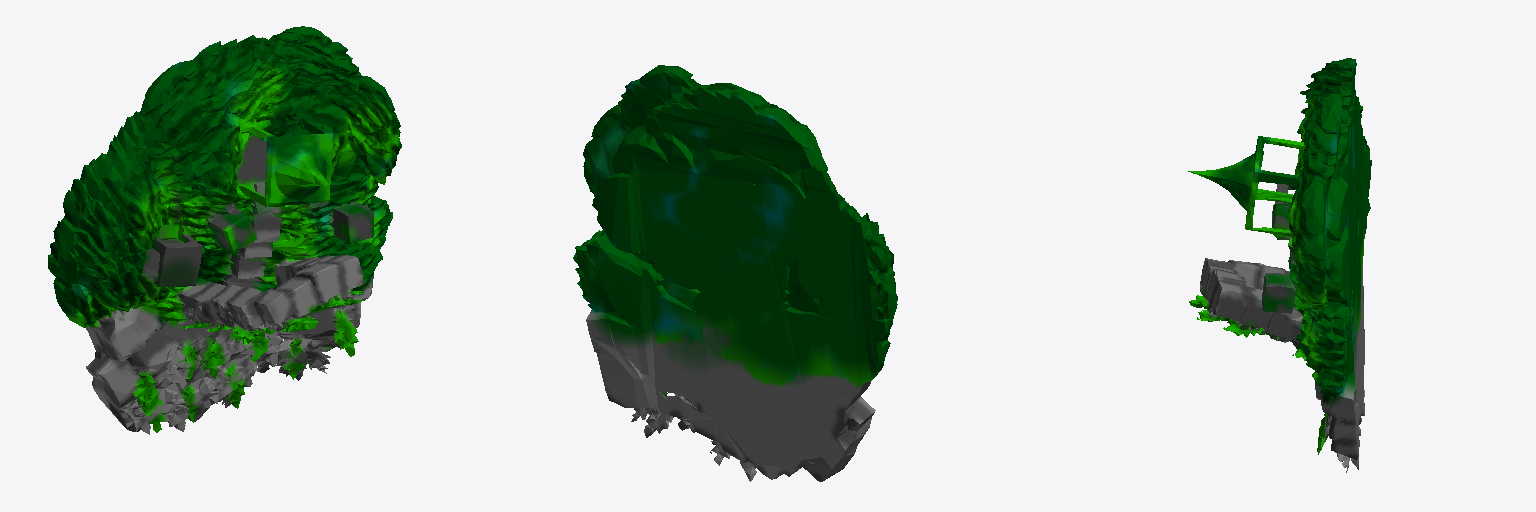
The picture shows the model from 3 angles: view 1: azimuth 30°, elevation 25°; view 2: azimuth 150°, elevation 25°; view 3: azimuth 270°, elevation 25°; orthographic projection.
Parts seen in each view (by area): view 1: Layer_2; view 2: Layer_2; view 3: Layer_2.
Boxes of the visible parts, x1=… form: Layer_2: x1=48, y1=26, x2=401, y2=434; Layer_2: x1=573, y1=65, x2=897, y2=481; Layer_2: x1=1188, y1=58, x2=1371, y2=472.
Bounding box in the file's own units: 2.39 × 2.65 × 1.16.
Materials: 1 (1 with a texture image).